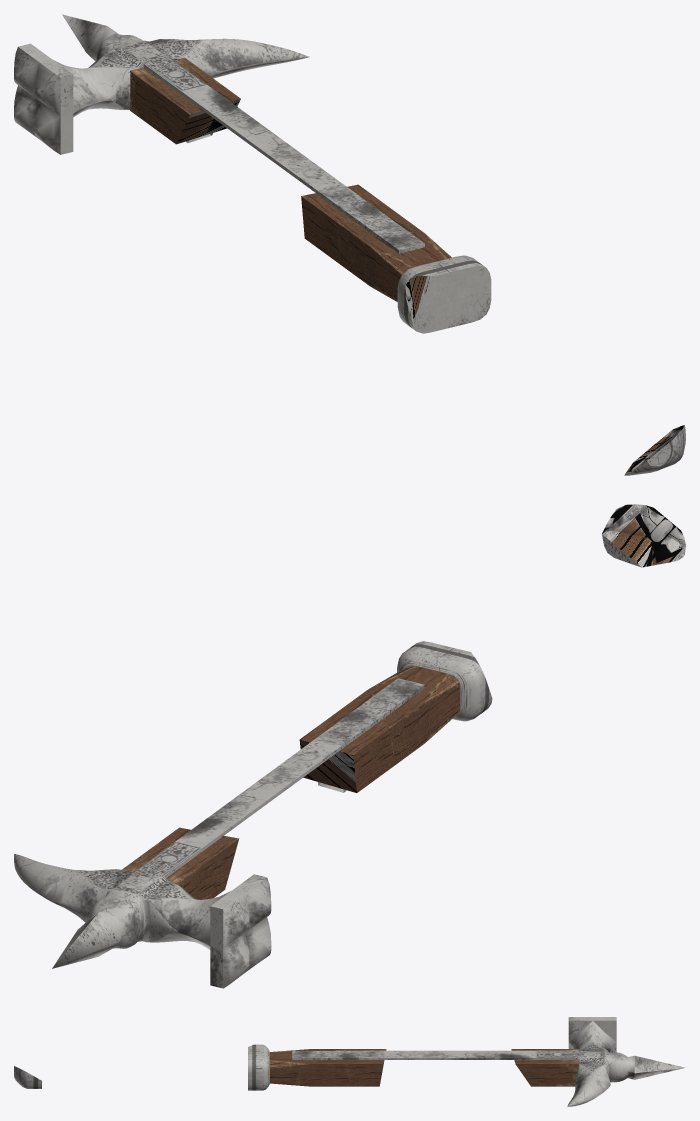
The model's file is hammerBroken.glb.
3 views of the same model, one above another, from view 1: azimuth 30°, elevation 25°; view 2: azimuth 150°, elevation 25°; view 3: azimuth 270°, elevation 25° (orthographic). The views are drawn at different scales.
Parts seen in each view (by area): view 1: WoodPole001_08 - Default_0_cell.010, WoodPole001_08 - Default_0_cell.008, WoodPole001_08 - Default_0_cell.020, WoodPole001_08 - Default_0_cell.022, WoodPole001_08 - Default_0_cell.006, WoodPole001_08 - Default_0_cell.027, WoodPole001_08 - Default_0_cell.024, WoodPole001_08 - Default_0_cell.004, WoodPole001_08 - Default_0_cell.017; view 2: WoodPole001_08 - Default_0_cell.010, WoodPole001_08 - Default_0_cell.017, WoodPole001_08 - Default_0_cell.008, WoodPole001_08 - Default_0_cell.022, WoodPole001_08 - Default_0_cell.027, WoodPole001_08 - Default_0_cell.006, WoodPole001_08 - Default_0_cell.020, WoodPole001_08 - Default_0_cell.024, WoodPole001_08 - Default_0_cell.013_cell.002, WoodPole001_08 - Default_0_cell.004; view 3: WoodPole001_08 - Default_0_cell.010, WoodPole001_08 - Default_0_cell.017, WoodPole001_08 - Default_0_cell.006, WoodPole001_08 - Default_0_cell.008, WoodPole001_08 - Default_0_cell.022, WoodPole001_08 - Default_0_cell.027, WoodPole001_08 - Default_0_cell.020, WoodPole001_08 - Default_0_cell.024, WoodPole001_08 - Default_0_cell.004.
Boxes of the visible parts, x1,y1,x2,y2 form: WoodPole001_08 - Default_0_cell.010: [301, 184, 451, 324]; WoodPole001_08 - Default_0_cell.008: [14, 43, 124, 154]; WoodPole001_08 - Default_0_cell.020: [397, 255, 491, 333]; WoodPole001_08 - Default_0_cell.022: [73, 40, 227, 143]; WoodPole001_08 - Default_0_cell.006: [130, 57, 240, 144]; WoodPole001_08 - Default_0_cell.027: [203, 100, 341, 192]; WoodPole001_08 - Default_0_cell.024: [315, 183, 424, 253]; WoodPole001_08 - Default_0_cell.004: [208, 38, 309, 78]; WoodPole001_08 - Default_0_cell.017: [62, 14, 208, 67]; WoodPole001_08 - Default_0_cell.010: [299, 656, 482, 792]; WoodPole001_08 - Default_0_cell.017: [42, 869, 175, 968]; WoodPole001_08 - Default_0_cell.008: [159, 874, 271, 988]; WoodPole001_08 - Default_0_cell.022: [78, 825, 225, 923]; WoodPole001_08 - Default_0_cell.027: [197, 740, 339, 834]; WoodPole001_08 - Default_0_cell.006: [122, 827, 238, 899]; WoodPole001_08 - Default_0_cell.020: [397, 641, 492, 721]; WoodPole001_08 - Default_0_cell.024: [314, 678, 424, 750]; WoodPole001_08 - Default_0_cell.013_cell.002: [602, 530, 653, 567]; WoodPole001_08 - Default_0_cell.004: [14, 854, 71, 902]; WoodPole001_08 - Default_0_cell.010: [260, 1044, 386, 1086]; WoodPole001_08 - Default_0_cell.017: [591, 1049, 685, 1088]; WoodPole001_08 - Default_0_cell.006: [511, 1049, 578, 1086]; WoodPole001_08 - Default_0_cell.008: [568, 1017, 616, 1052]; WoodPole001_08 - Default_0_cell.022: [511, 1034, 605, 1081]; WoodPole001_08 - Default_0_cell.027: [384, 1050, 513, 1059]; WoodPole001_08 - Default_0_cell.020: [248, 1044, 269, 1090]; WoodPole001_08 - Default_0_cell.024: [292, 1050, 385, 1059]; WoodPole001_08 - Default_0_cell.004: [567, 1074, 606, 1106].
Bounding box in the file's own units: 85.93 × 24.24 × 341.
Materials: 1 (1 with a texture image).
